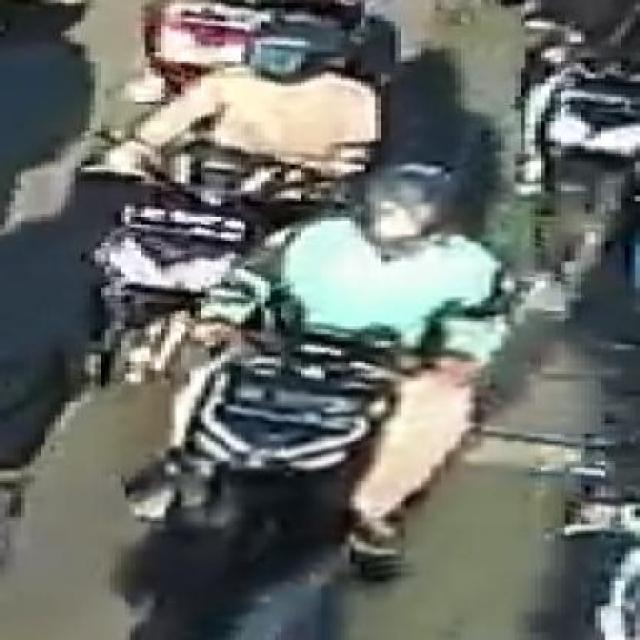helmet: (346, 160, 466, 261), (247, 17, 341, 96)
motorcycle: (146, 157, 523, 640), (90, 13, 383, 371)
